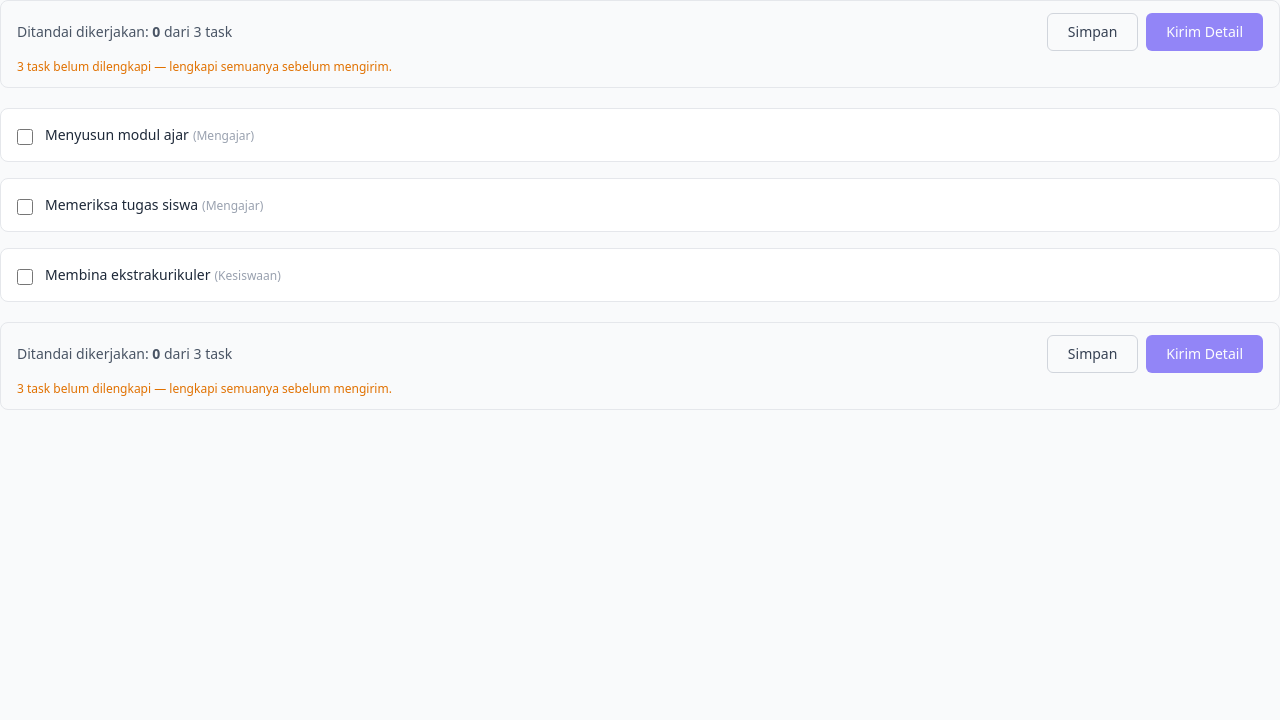
Test: DetailForm — 'Simpan' menyimpan draft parsial tanpa syarat kelengkapan (backlog #55) › positif: 3 task dicentang, hanya 1 durasi diisi → satu PUT dengan 3 entri, tanpa pesan error
The width and height of the screenshot is (1280, 720).
Step 1. Click the checkbox labelled "Menyusun modul ajar(Mengajar)" → (25, 137), box [17,129,33,145]
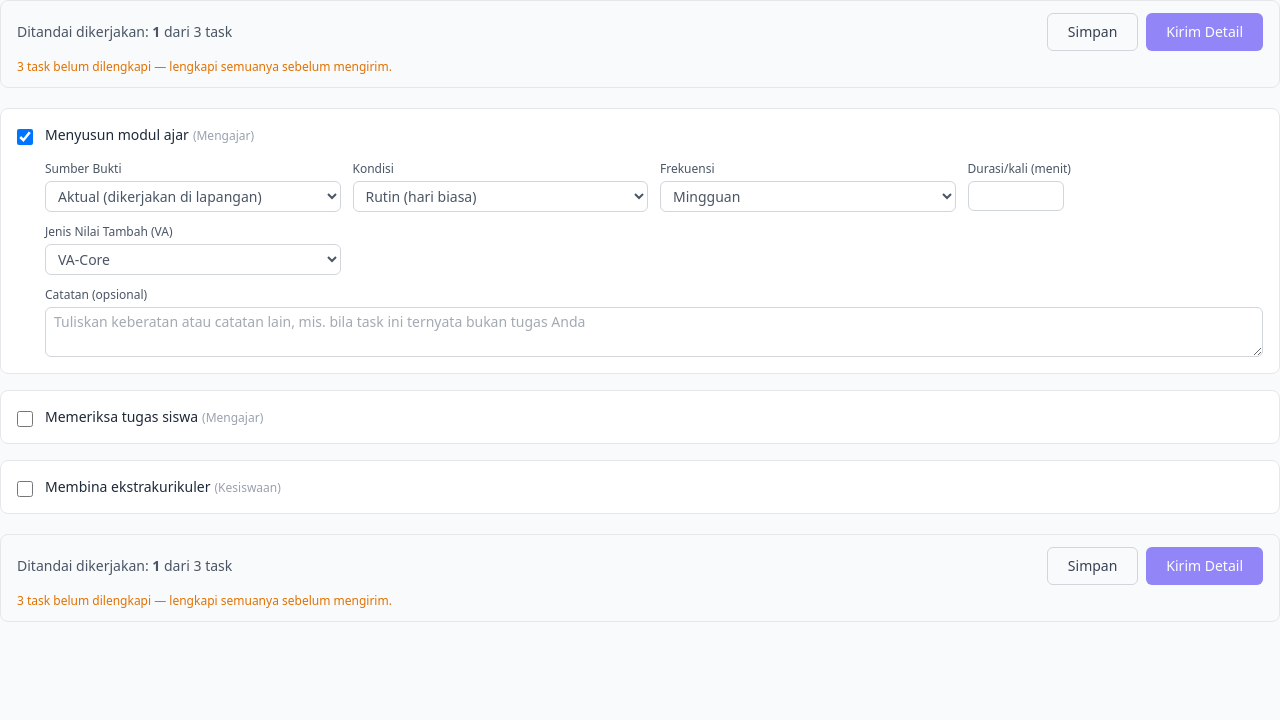
Step 2. Click the checkbox labelled "Memeriksa tugas siswa(Mengajar)" → (25, 419), box [17,411,33,427]
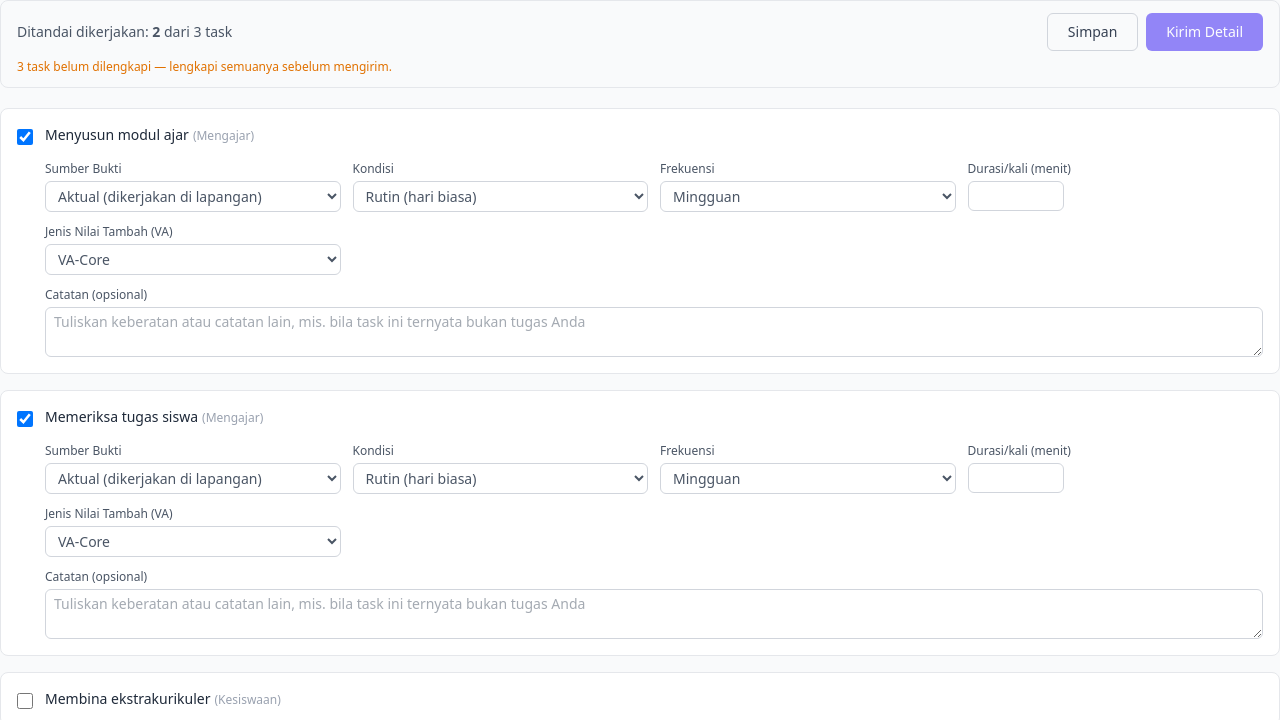
Step 3. Click the checkbox labelled "Membina ekstrakurikuler(Kesiswaan)" → (25, 701), box [17,693,33,709]
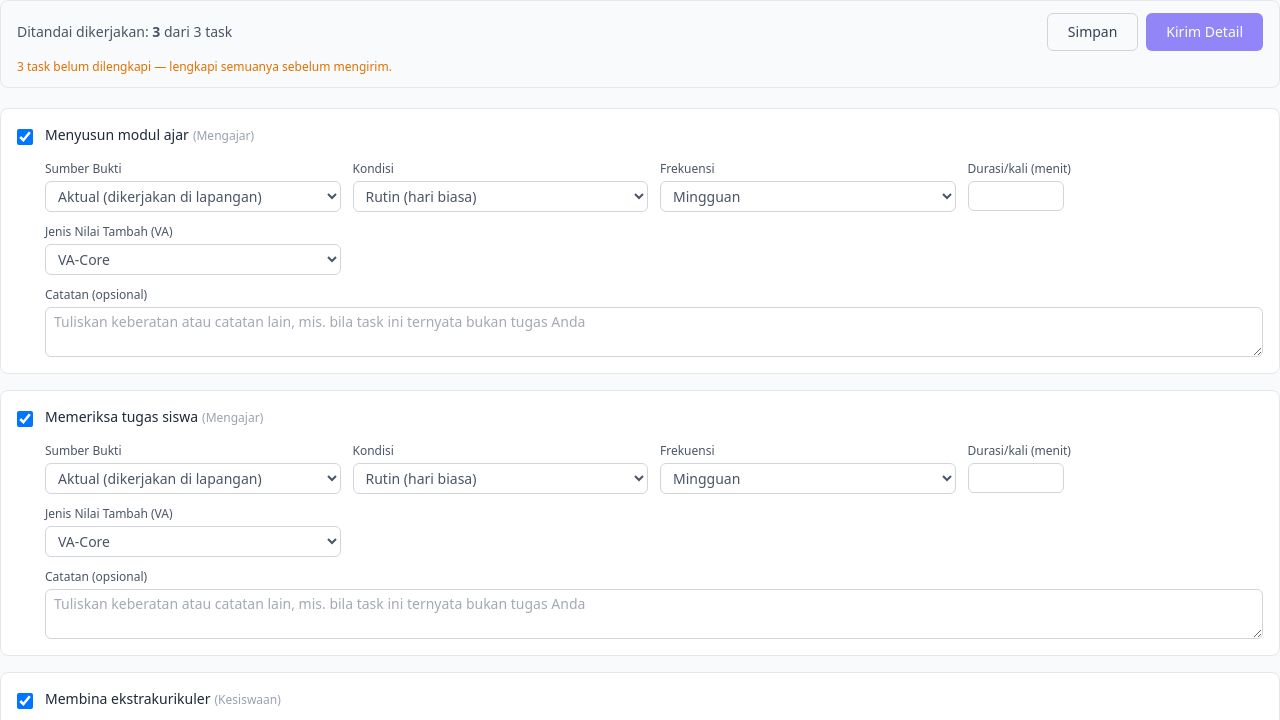
Step 4. Type "30" into the 1st number field labelled "Durasi/kali (menit)" → (1016, 196), box [968,181,1064,211]
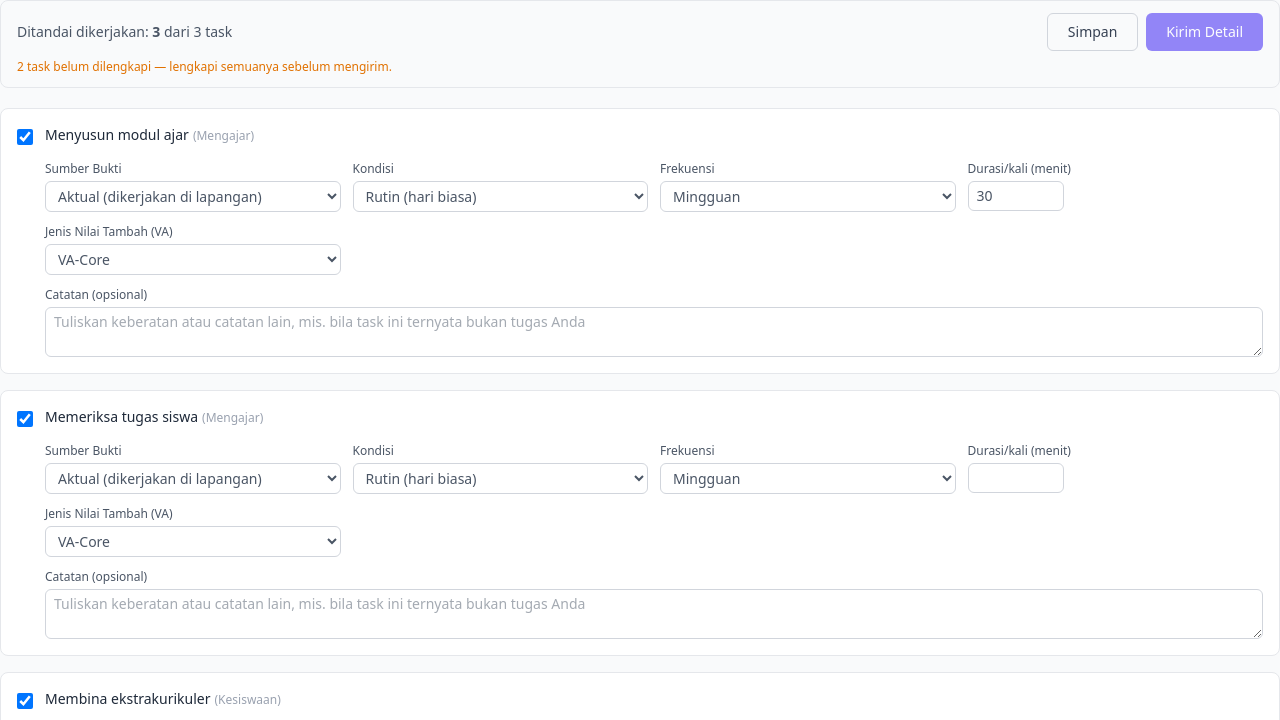
Step 5. Click the button "Simpan" → (1093, 32), box [1047,13,1138,51]
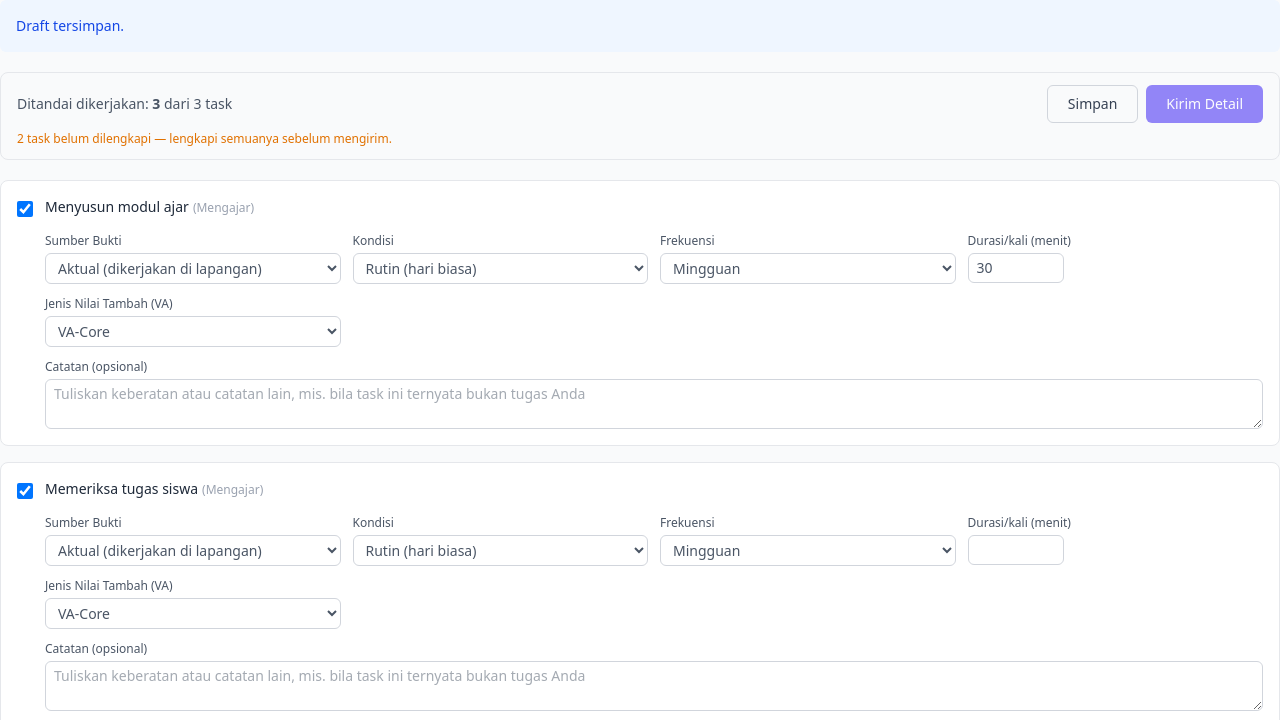
Check: the text "Draft tersimpan." is shown, box [0,0,1279,52]
